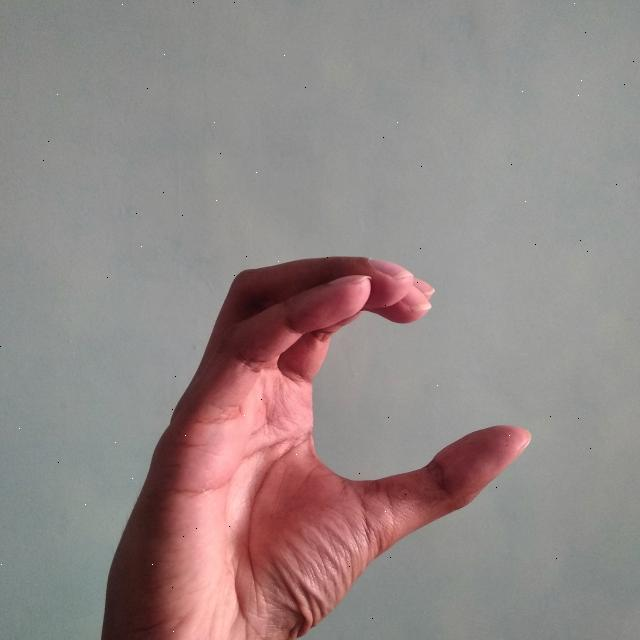C: (99, 250, 529, 640)
